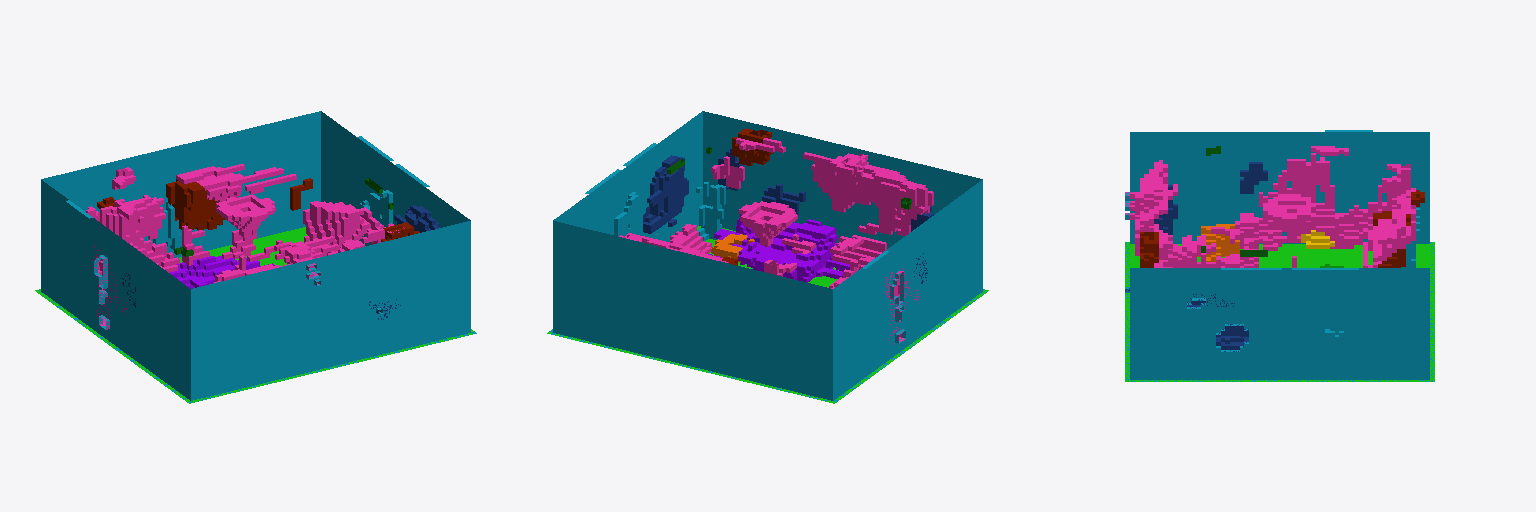
File: Input_prediction.obj
3 views of the same model, side by side, from view 1: azimuth 30°, elevation 25°; view 2: azimuth 150°, elevation 25°; view 3: azimuth 270°, elevation 25° (orthographic).
Visible parts, largest first — view 1: Cube; view 2: Cube; view 3: Cube.
Boxes of the visible parts, x1,y1,x2,y2 form: Cube: [35, 111, 476, 403]; Cube: [547, 111, 988, 403]; Cube: [1125, 130, 1434, 381].
Size of the model in its own units: 5.6 by 2.08 by 5.2.